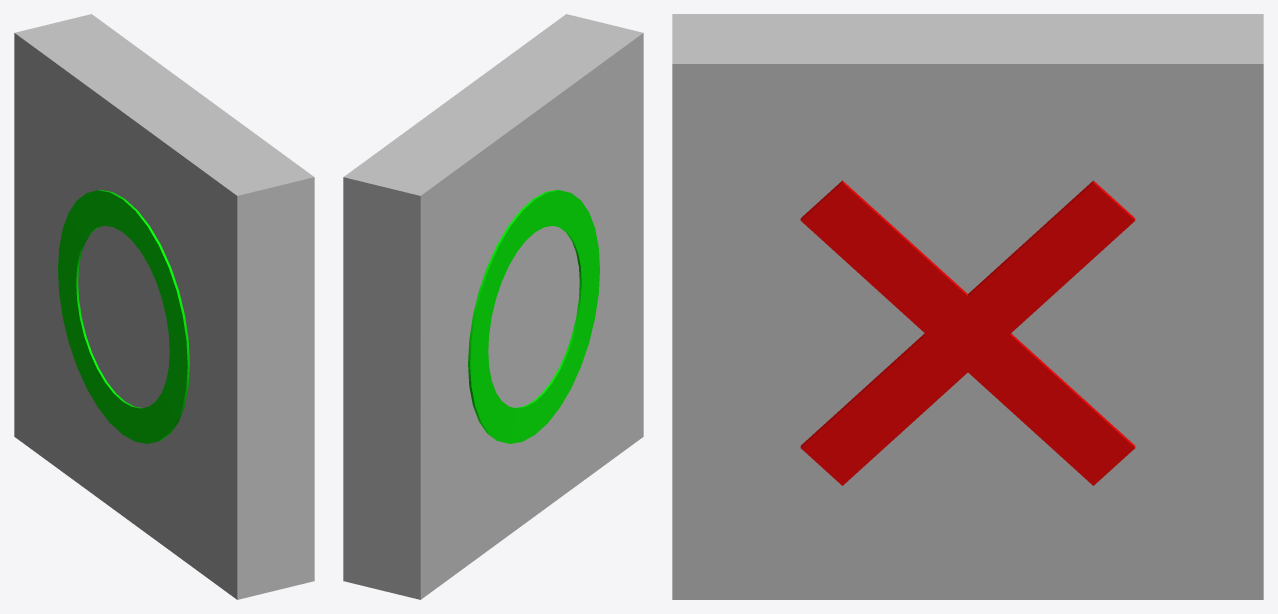
File: Feedback_Panel.fbx
The picture shows the model from 3 angles, left to right: view 1: azimuth 30°, elevation 25°; view 2: azimuth 150°, elevation 25°; view 3: azimuth 270°, elevation 25°; orthographic projection. The views are drawn at different scales.
Parts seen in each view (by area): view 1: Feedback_Panel; view 2: Feedback_Panel; view 3: Feedback_Panel.
Boxes of the visible parts, x1,y1,x2,y2 form: Feedback_Panel: [14, 14, 314, 599]; Feedback_Panel: [343, 14, 643, 599]; Feedback_Panel: [672, 14, 1263, 599].
Size of the model in its own units: 200 by 43.58 by 200.
1 material, 1 textured.
